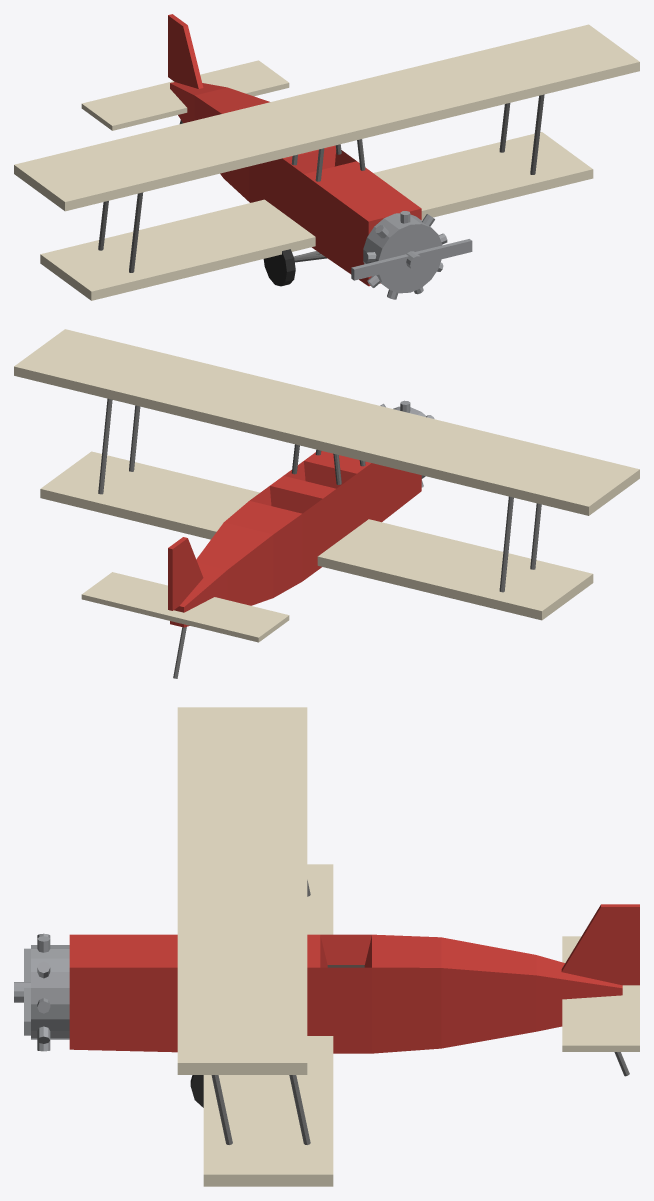
3 views of the same model, one above another, from view 1: azimuth 30°, elevation 25°; view 2: azimuth 150°, elevation 25°; view 3: azimuth 270°, elevation 25° (orthographic). The views are drawn at different scales.
Parts seen in each view (by area): view 1: Nu_D36, Pervane; view 2: Nu_D36; view 3: Nu_D36, Pervane.
Boxes of the visible parts, x1,y1,x2,y2 form: Nu_D36: [14, 14, 639, 300]; Pervane: [351, 239, 472, 280]; Nu_D36: [14, 329, 639, 678]; Nu_D36: [31, 707, 639, 1186]; Pervane: [14, 948, 30, 1035].
Size of the model in its own units: 9.74 by 2.44 by 7.25.
